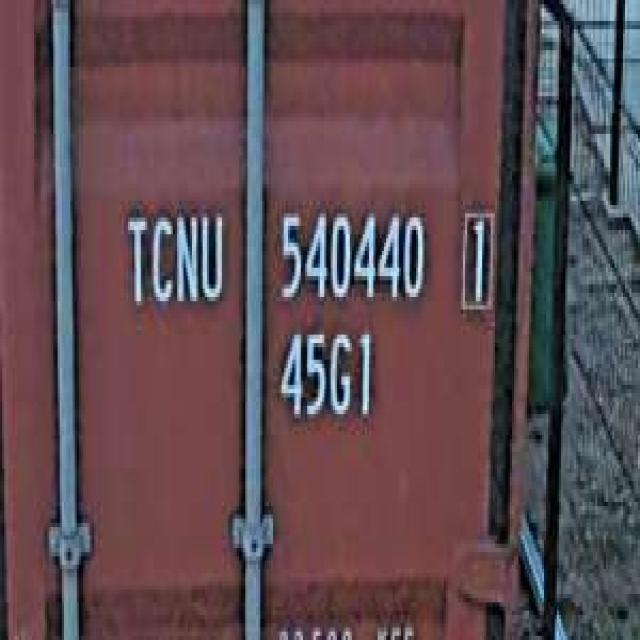dv: (454, 197, 497, 318)
owner: (120, 197, 228, 318)
serial: (273, 192, 429, 310)
size: (273, 318, 378, 435)
